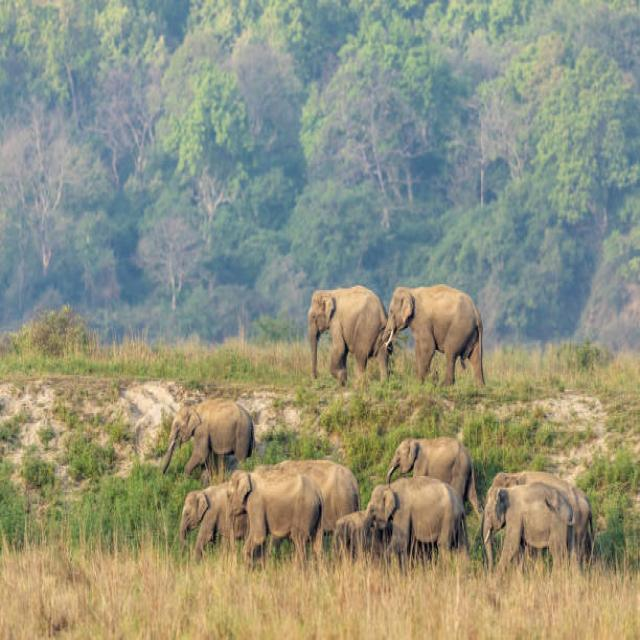Elephant: (384, 266, 492, 407), (301, 284, 392, 400)
